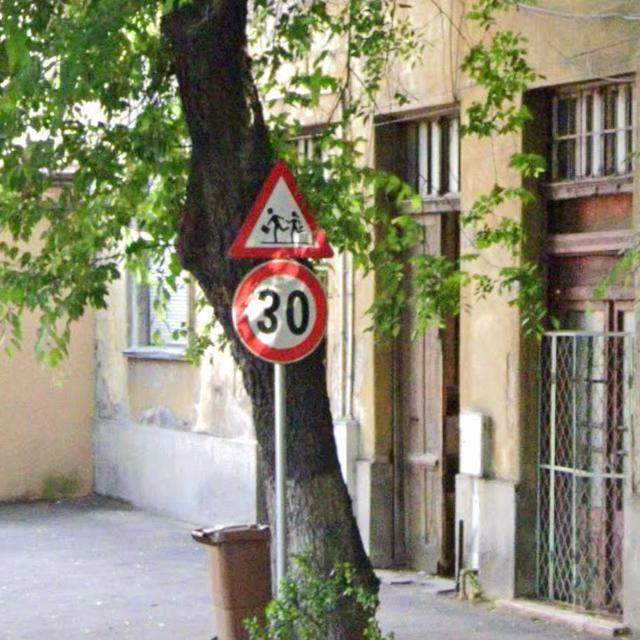forb_speed_over_30: (232, 260, 329, 364)
